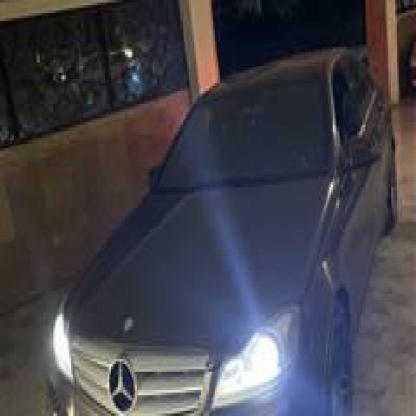car: (35, 34, 402, 413)
